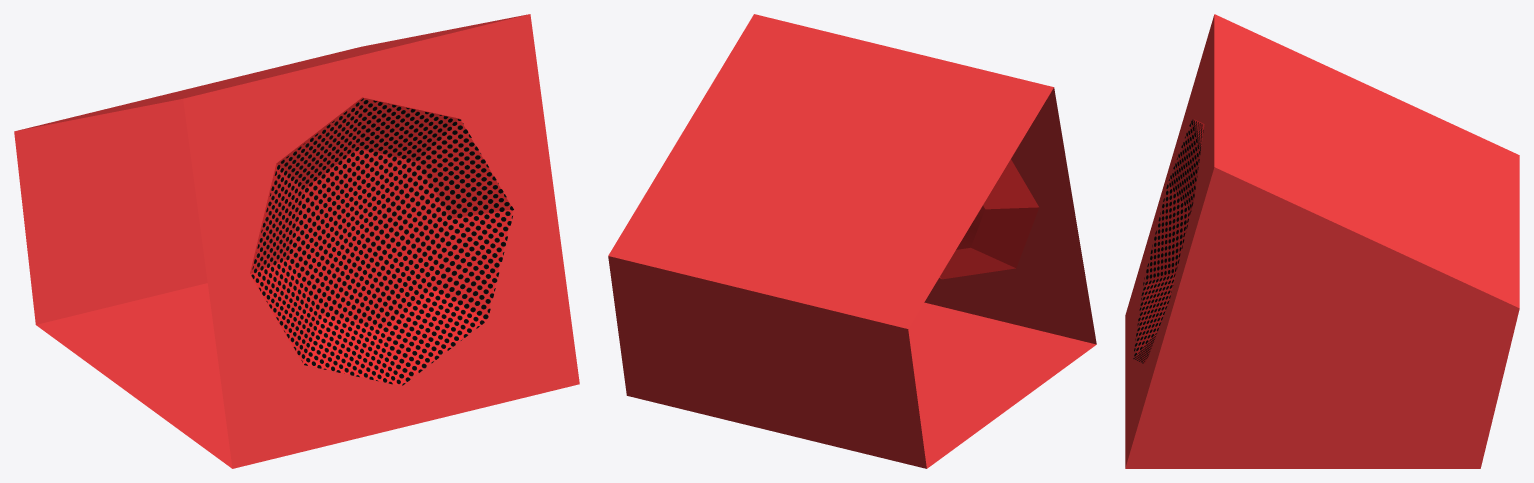
File: Itr_Obj_Speaker2_Right_05.FBX
3 renders of one model, left to right at view 1: azimuth 30°, elevation 25°; view 2: azimuth 150°, elevation 25°; view 3: azimuth 270°, elevation 25°, orthographic. The views are drawn at different scales.
Visible parts, largest first — view 1: Itr_Obj_Speaker2_Right_05; view 2: Itr_Obj_Speaker2_Right_05; view 3: Itr_Obj_Speaker2_Right_05.
Boxes of the visible parts, x1,y1,x2,y2 form: Itr_Obj_Speaker2_Right_05: [14, 14, 579, 468]; Itr_Obj_Speaker2_Right_05: [608, 14, 1096, 468]; Itr_Obj_Speaker2_Right_05: [1125, 14, 1519, 468].
Bounding box in the file's own units: 10.38 × 9.54 × 11.31.
